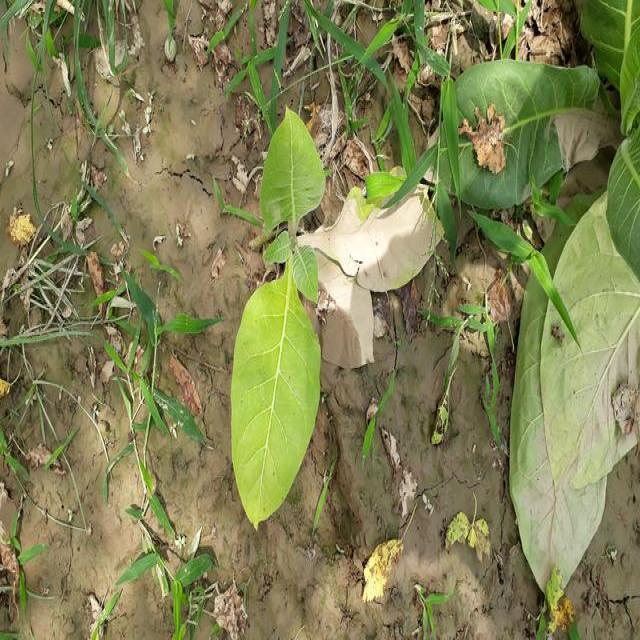crop: (450, 0, 640, 581), (226, 106, 432, 525)
